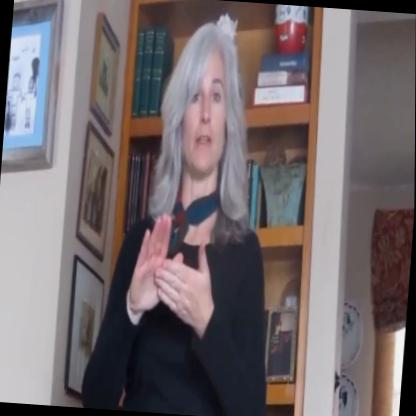NiceToMeetYou: (116, 201, 220, 354)
